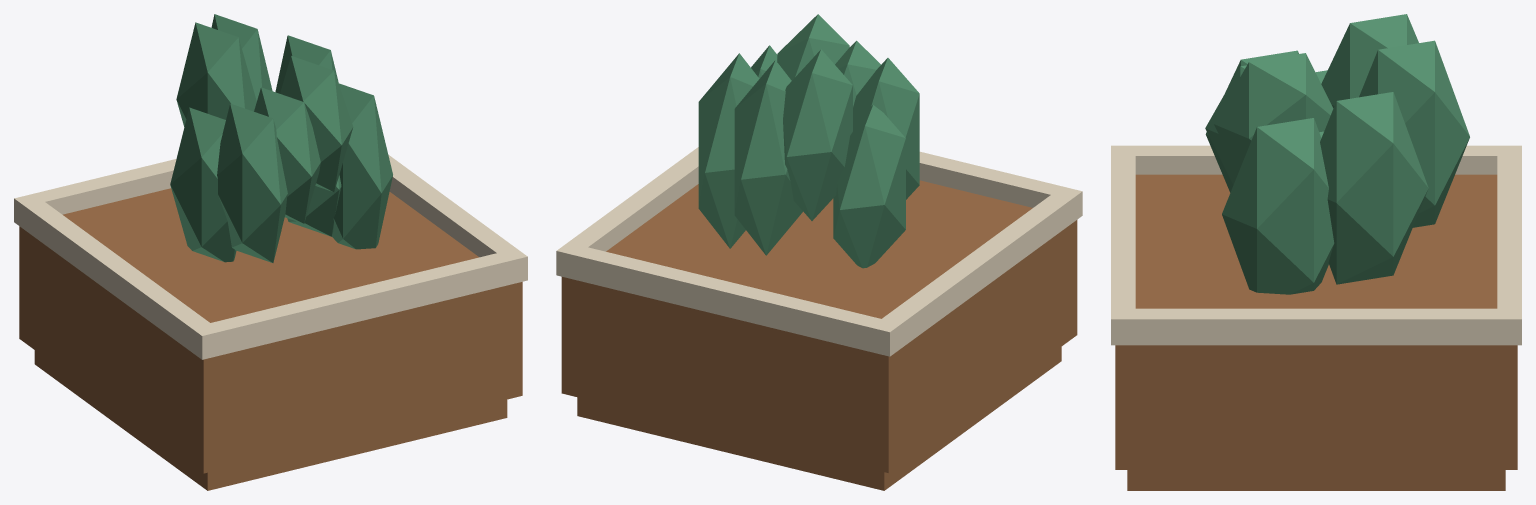
Rendered from LM_PROP_PlanterMamak.glb.
The picture shows the model from 3 angles, left to right: view 1: azimuth 30°, elevation 25°; view 2: azimuth 150°, elevation 25°; view 3: azimuth 270°, elevation 25°; orthographic projection. The views are drawn at different scales.
Visible parts, largest first — view 1: LM_PROP_PlanterMamak; view 2: LM_PROP_PlanterMamak; view 3: LM_PROP_PlanterMamak.
Boxes of the visible parts, <box> form: LM_PROP_PlanterMamak: <box>14,14,527,490</box>; LM_PROP_PlanterMamak: <box>556,14,1082,490</box>; LM_PROP_PlanterMamak: <box>1111,14,1521,490</box>.
Size of the model in its own units: 2 by 2.04 by 2.
